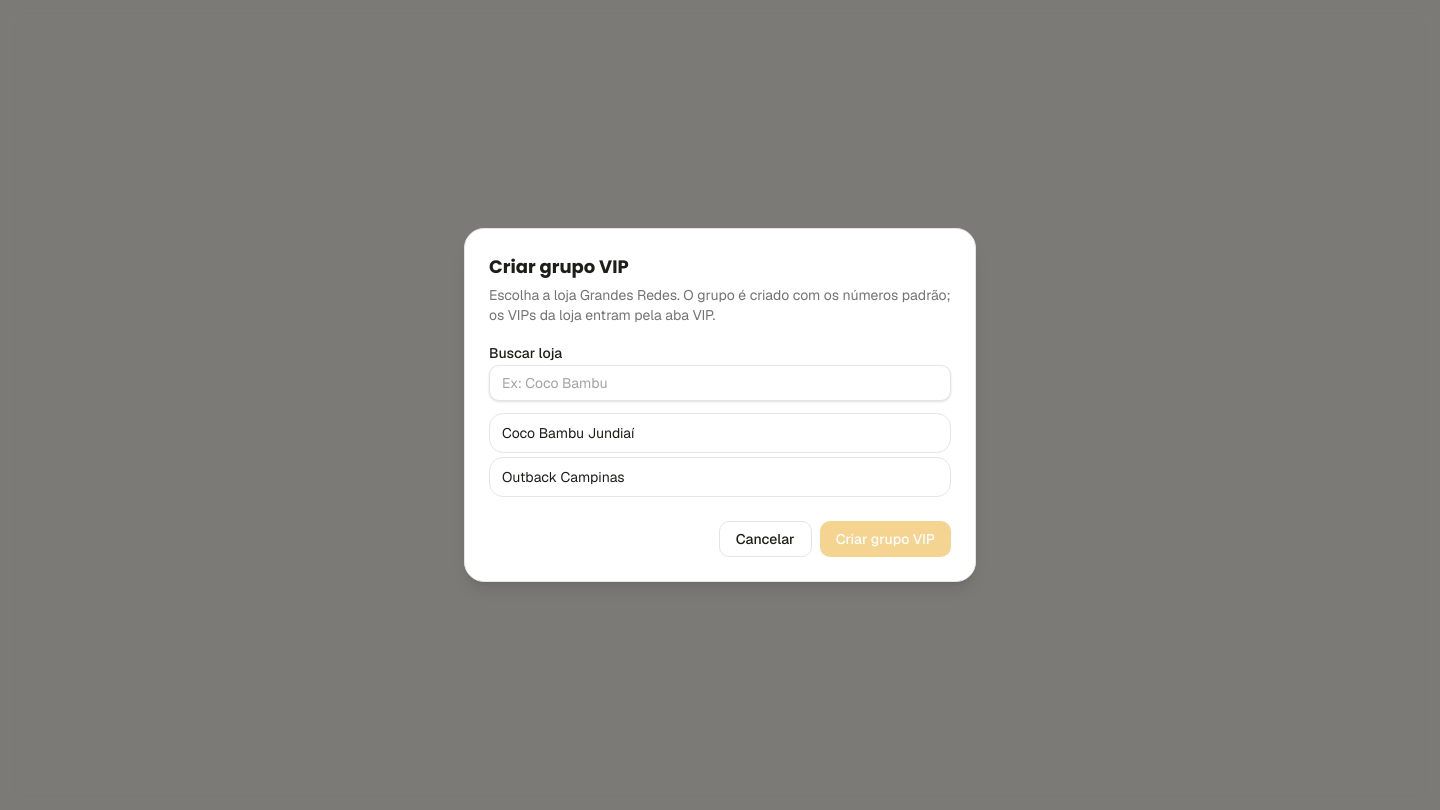
Test: CreateVipGroupDialog › lista só as lojas Grandes Redes sem grupo, com busca
Expected: the radio button labelled "Coco Bambu Jundiaí" is shown, [489, 413, 951, 453]
Expected: the radio button labelled "Outback Campinas" is shown, [489, 457, 951, 497]
Type "outback" into the field labelled "Buscar loja" at (720, 383), box [489, 365, 951, 401]
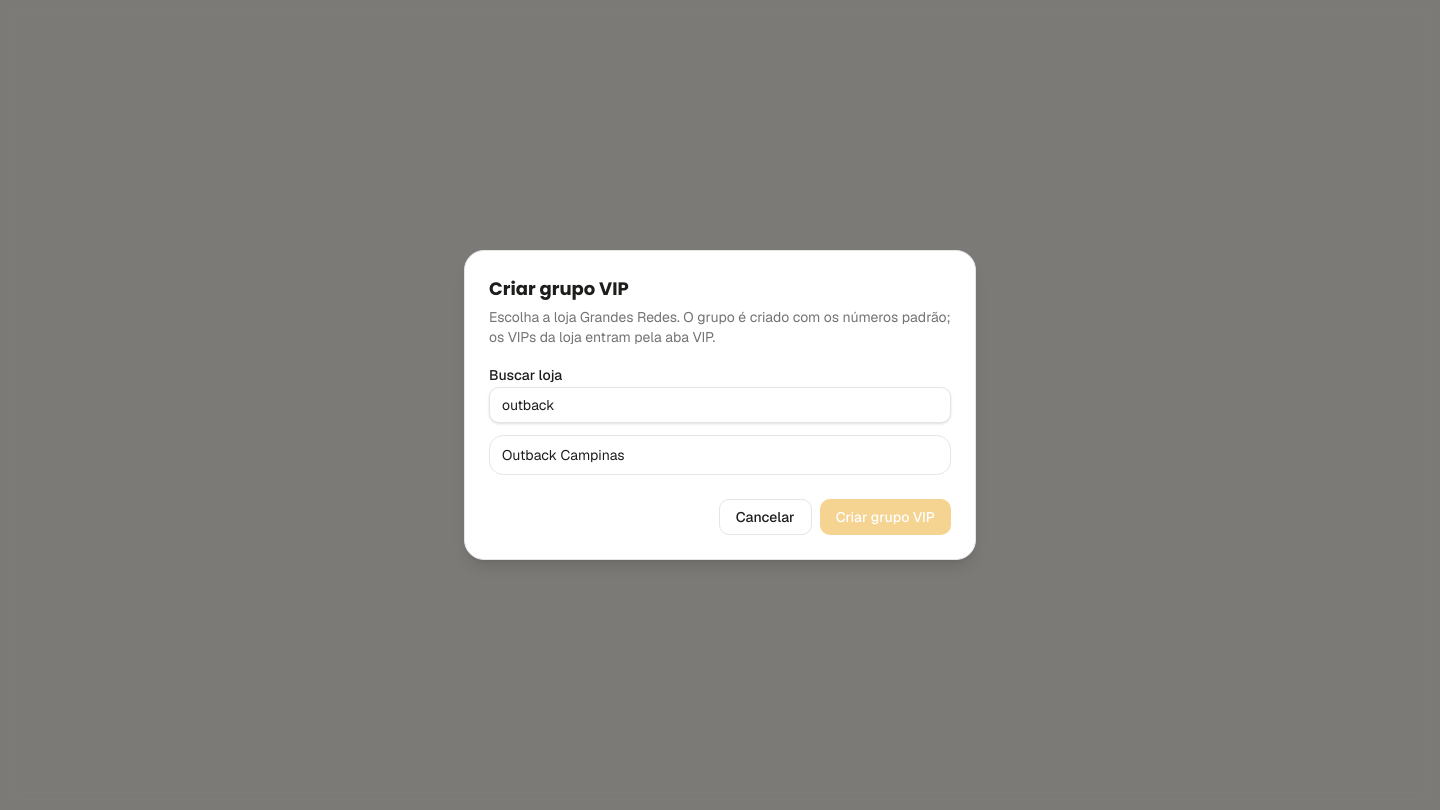
Result: the radio button labelled "Coco Bambu Jundiaí" is gone
